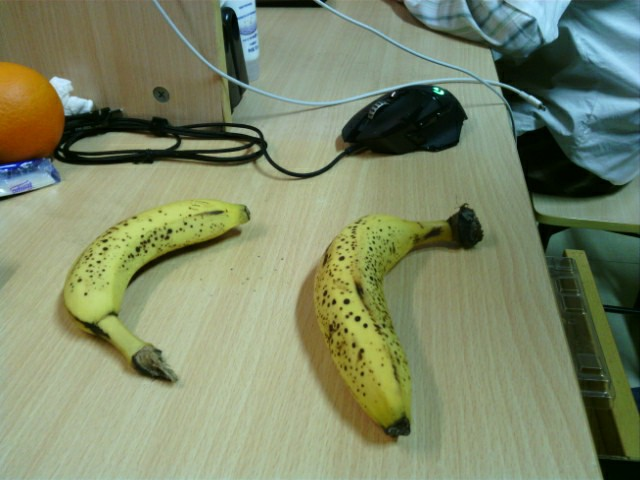normal_banana: (313, 203, 486, 435), (64, 199, 251, 384)
